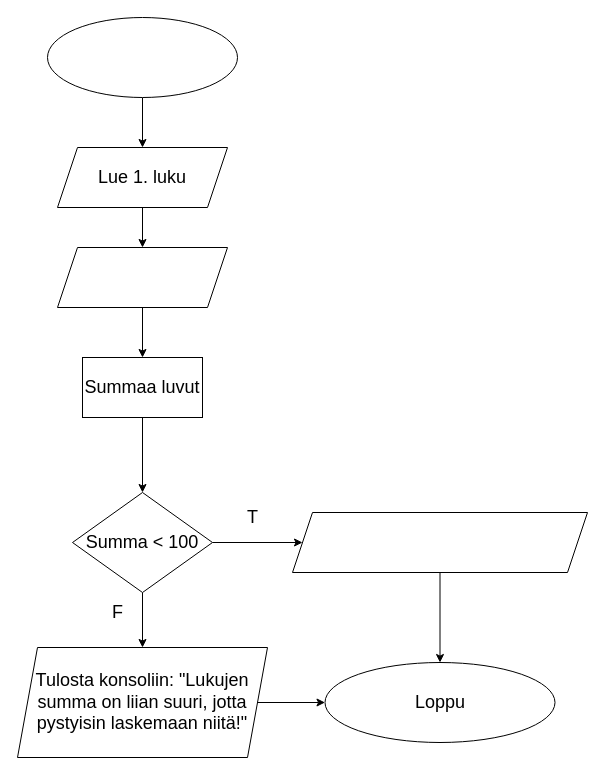
The diagram is 605 pixels wide and 775 high, and some of its shapes have lost their labels. Here are the shapes that lost their labels. From the top down, the centre of each, then its label:
pixel 142 57: Aloitus
pixel 142 277: Lue 2. luku
pixel 440 542: Tulosta konsoliin (console.log) "Lukujen summa on alle 100"
